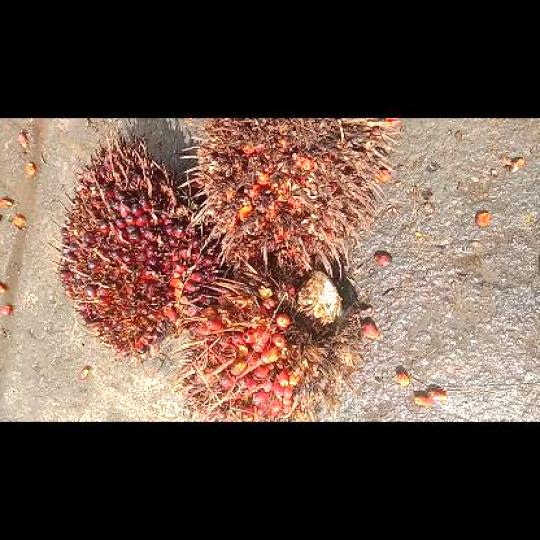masak: (46, 128, 221, 363), (167, 254, 365, 421)
terlalu masak: (178, 118, 398, 277)
